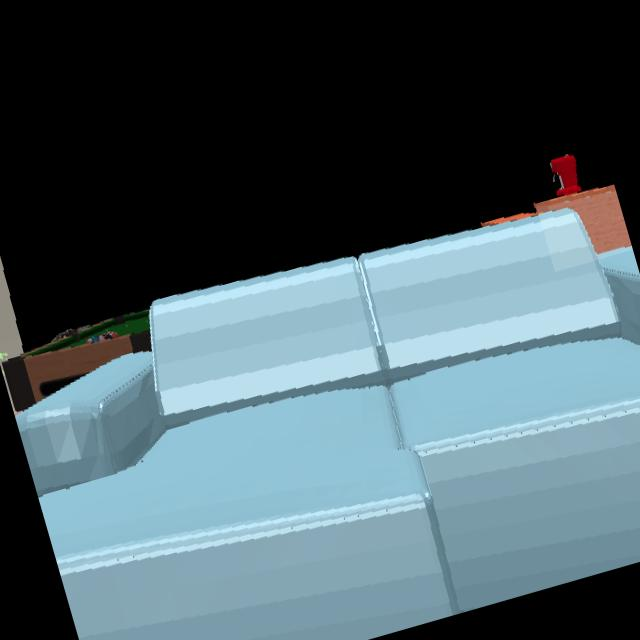sofa: (15, 211, 640, 640)
table: (538, 185, 632, 256)
